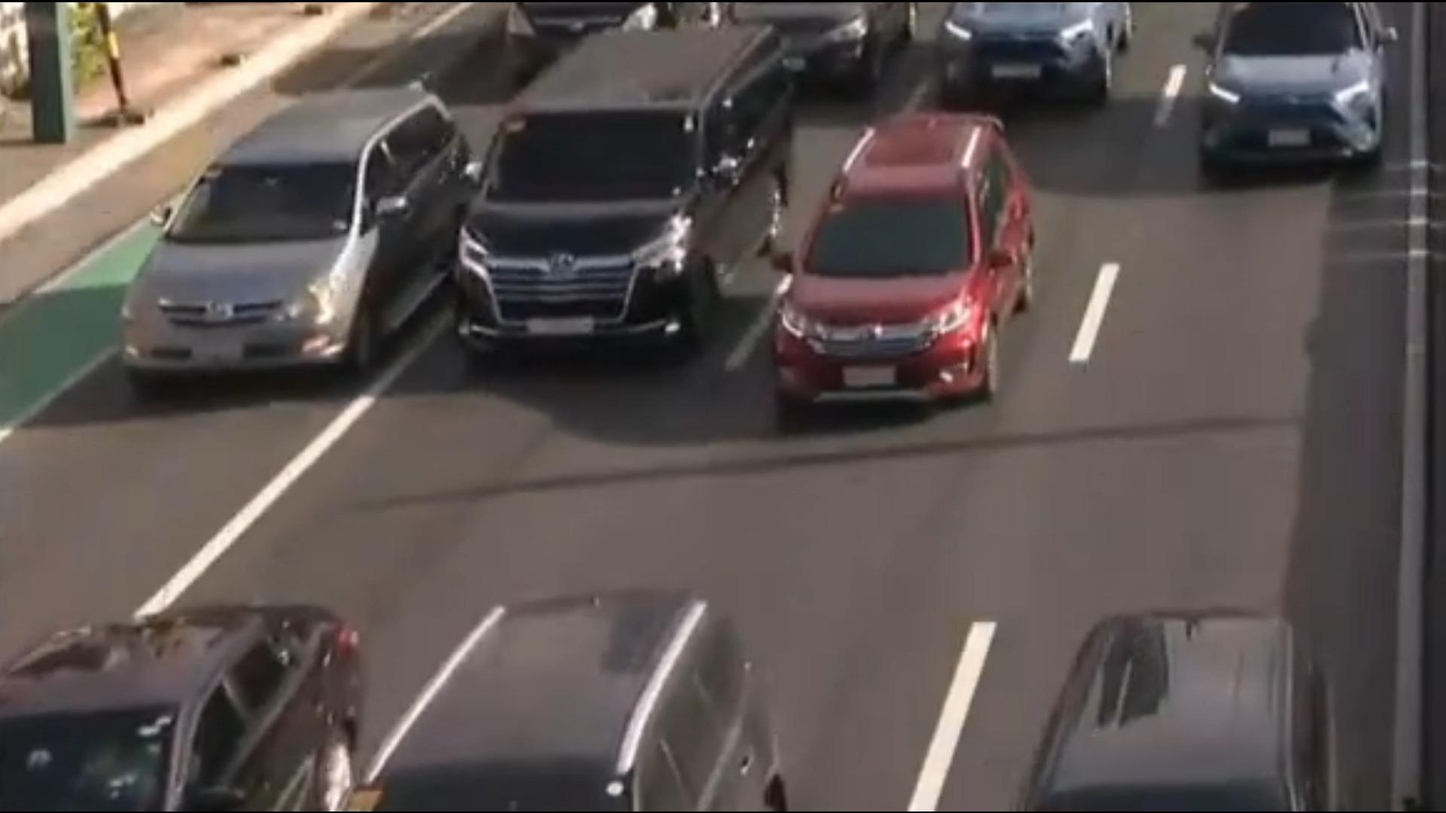SUV: (128, 90, 473, 386), (348, 587, 791, 813), (776, 136, 1036, 422), (1005, 612, 1352, 813), (1199, 0, 1386, 171)
Sedan: (0, 600, 375, 813)
Van: (444, 28, 785, 375)
